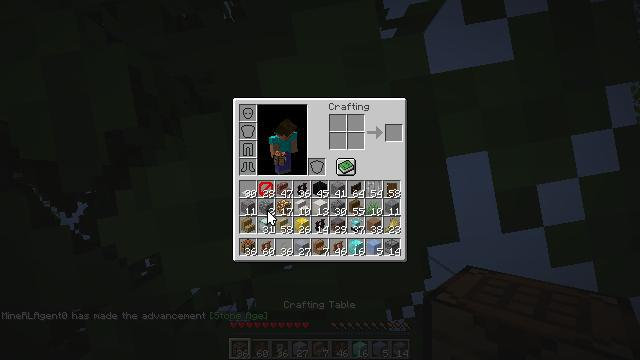cursor: (210, 267, 226, 277)
